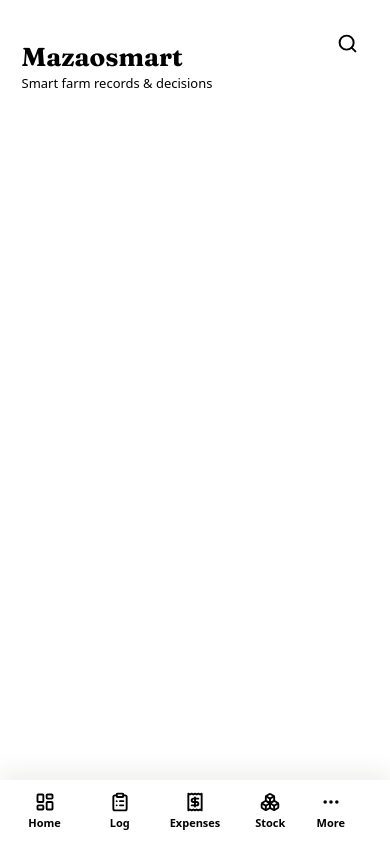
Test: Header — "More" menu opens and closes correctly › closes when a menu item is selected
Step 1. Click the button "More" → (331, 812), box top-left (309, 788), bottom-right (353, 836)
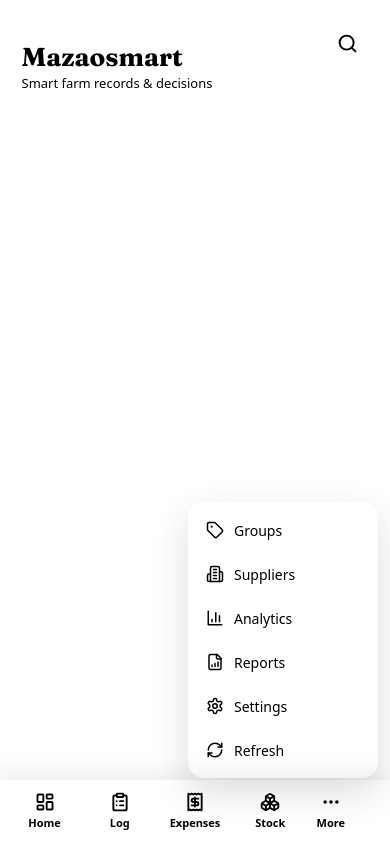
Check: the menu is shown, box top-left (188, 502), bottom-right (378, 778)
Step 2. Click the menu item "Groups" → (283, 530), box top-left (194, 508), bottom-right (372, 552)
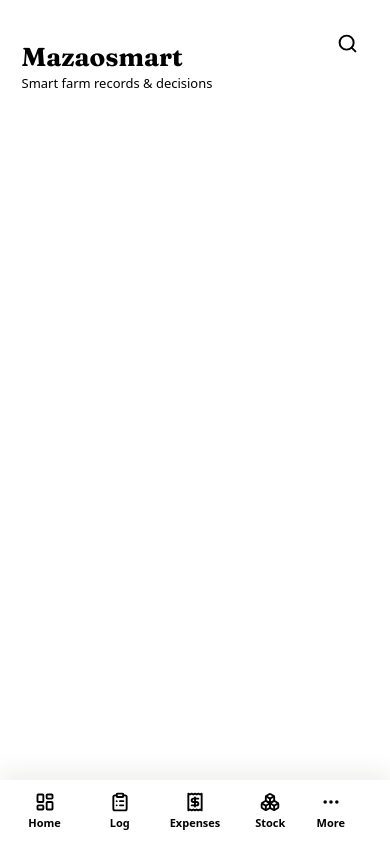
Check: the menu is gone
